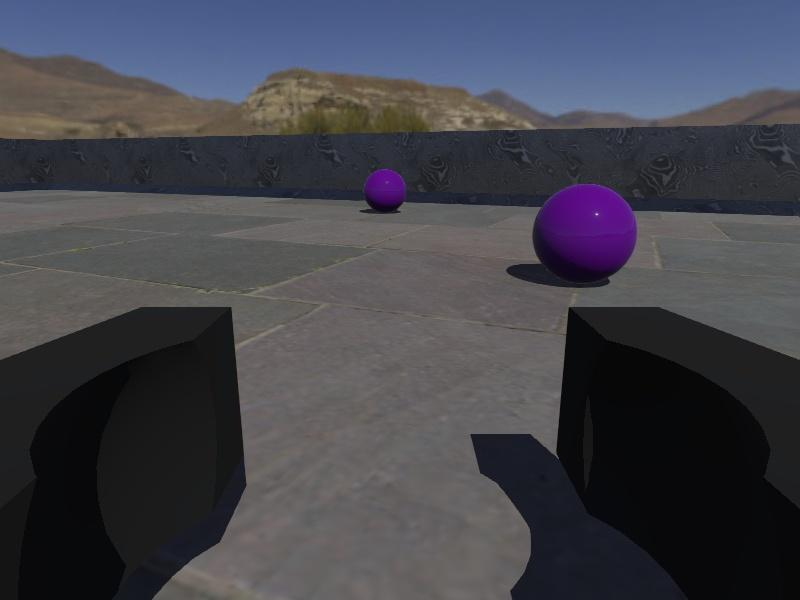violet ball: (532, 182, 638, 285), (364, 168, 408, 213)
